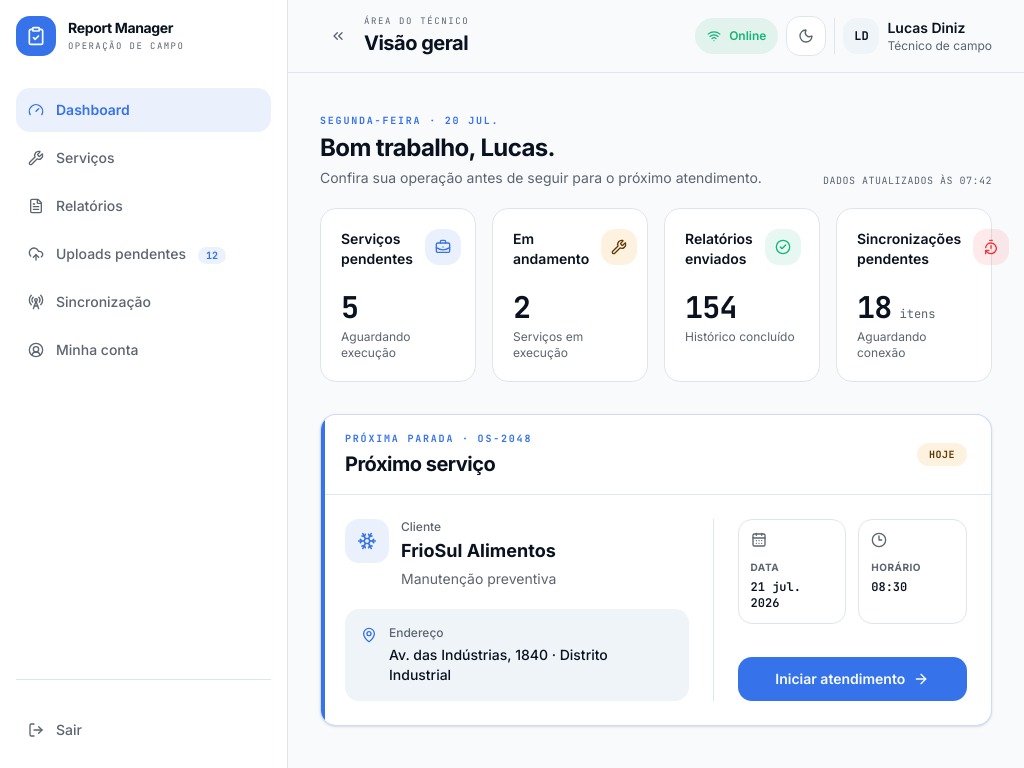
Test: technician experience › keeps the shell and exposes the correct title for every route
The width and height of the screenshot is (1024, 768).
What coordinates should you click on to do the following:
click the link "Serviços"
I would click on:
 (71, 158)
Its box is [28,149,115,166].
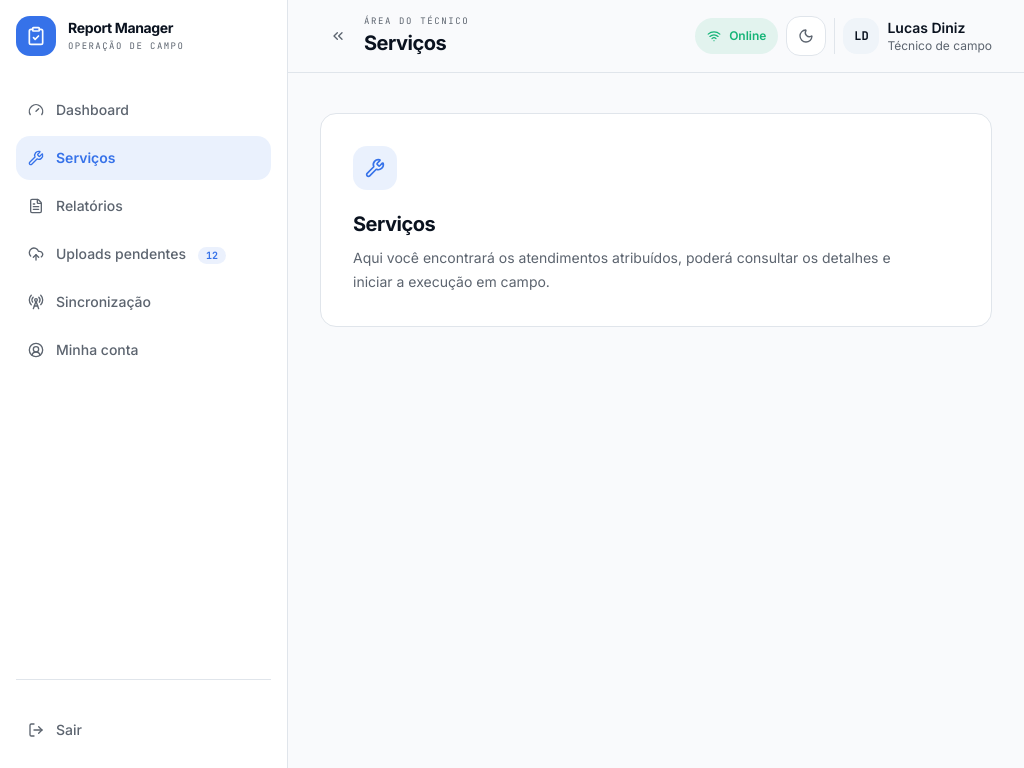
Now the heading "Serviços" below "Área do técnico" is shown, box [364,31,446,55]
What coordinates should you click on to do the following:
click the link "Relatórios"
I would click on:
 (75, 206)
Its box is [28,197,123,214].
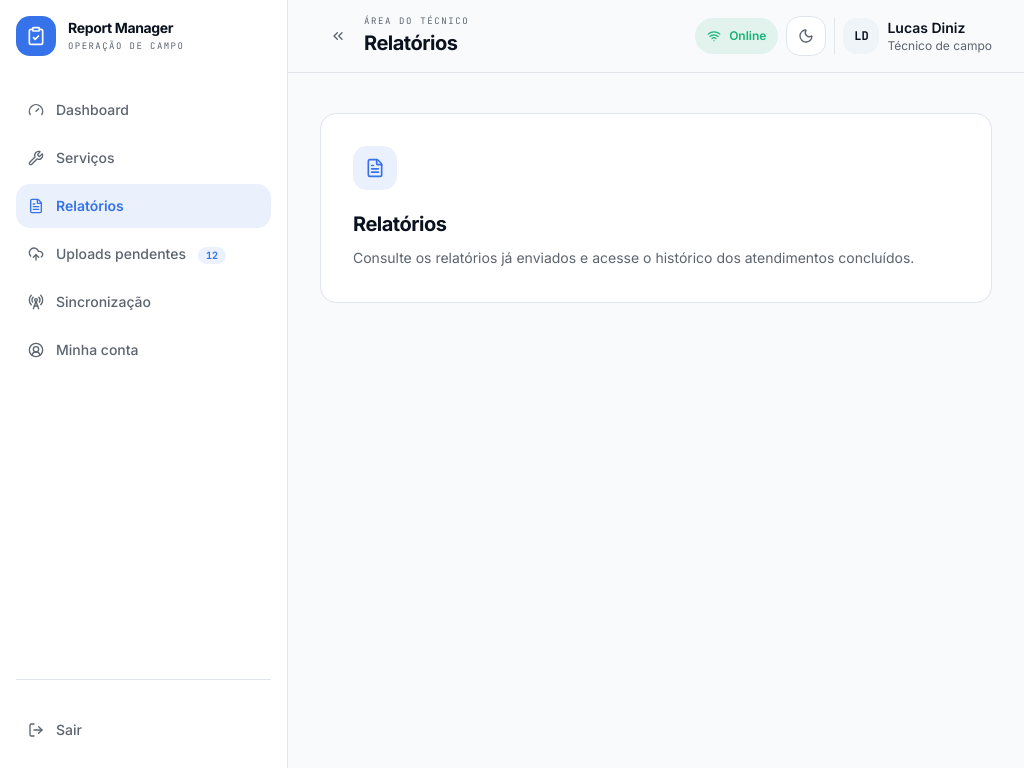
Now the heading "Relatórios" below "Área do técnico" is shown, box [364,29,469,57]
What coordinates should you click on to do the following:
click the link "Uploads pendentes 12"
I would click on:
 (127, 254)
Its box is [28,245,226,264].
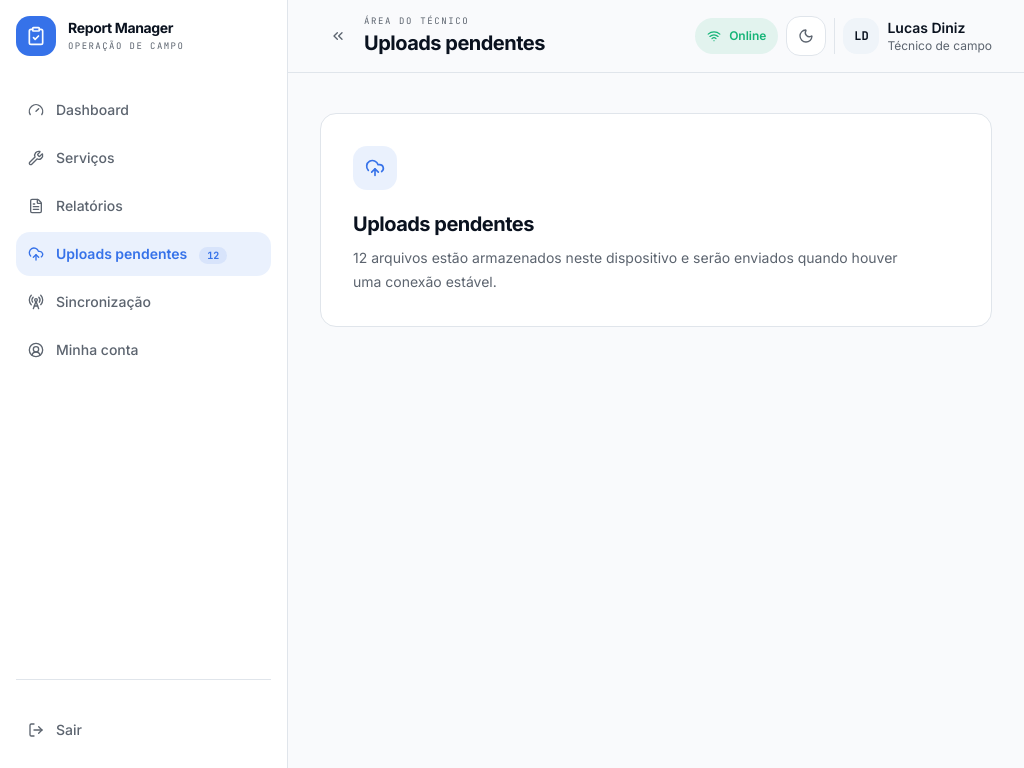
Now the heading "Uploads pendentes" below "Área do técnico" is shown, box [364,29,545,57]
What coordinates should you click on to do the following:
click the link "Sincronização"
I would click on:
 (90, 302)
Its box is [28,293,151,310].
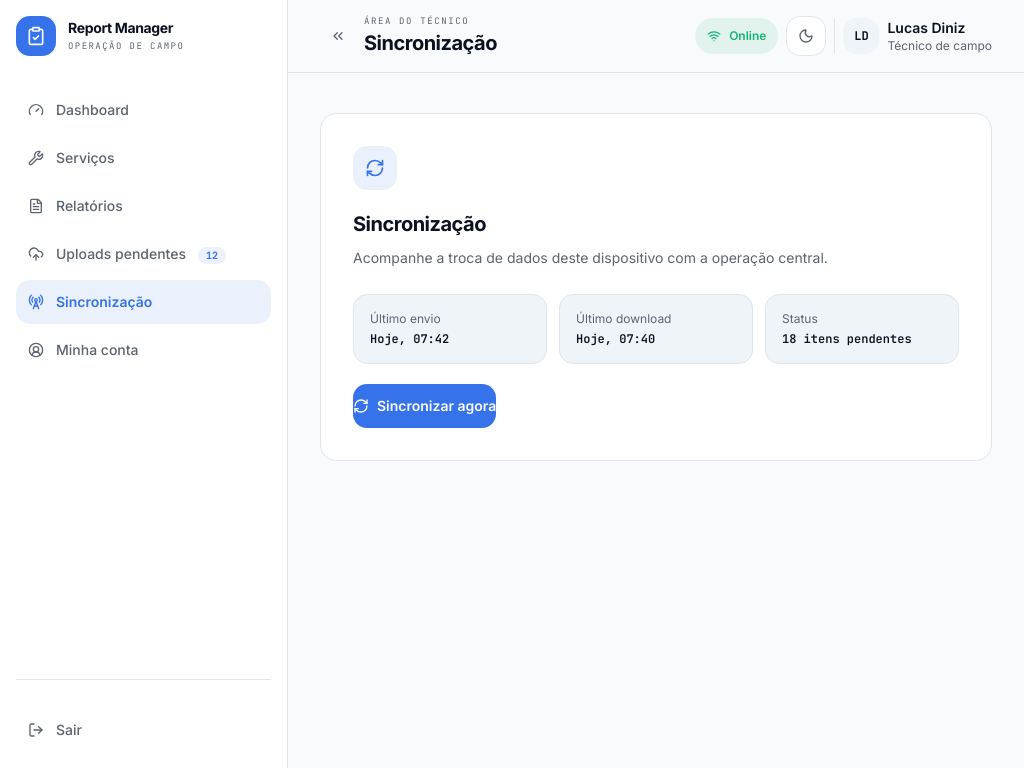
Now the heading "Sincronização" below "Área do técnico" is shown, box [364,29,497,57]
What coordinates should you click on to do the following:
click the link "Minha conta"
I would click on:
 (83, 350)
Its box is [28,341,139,358].
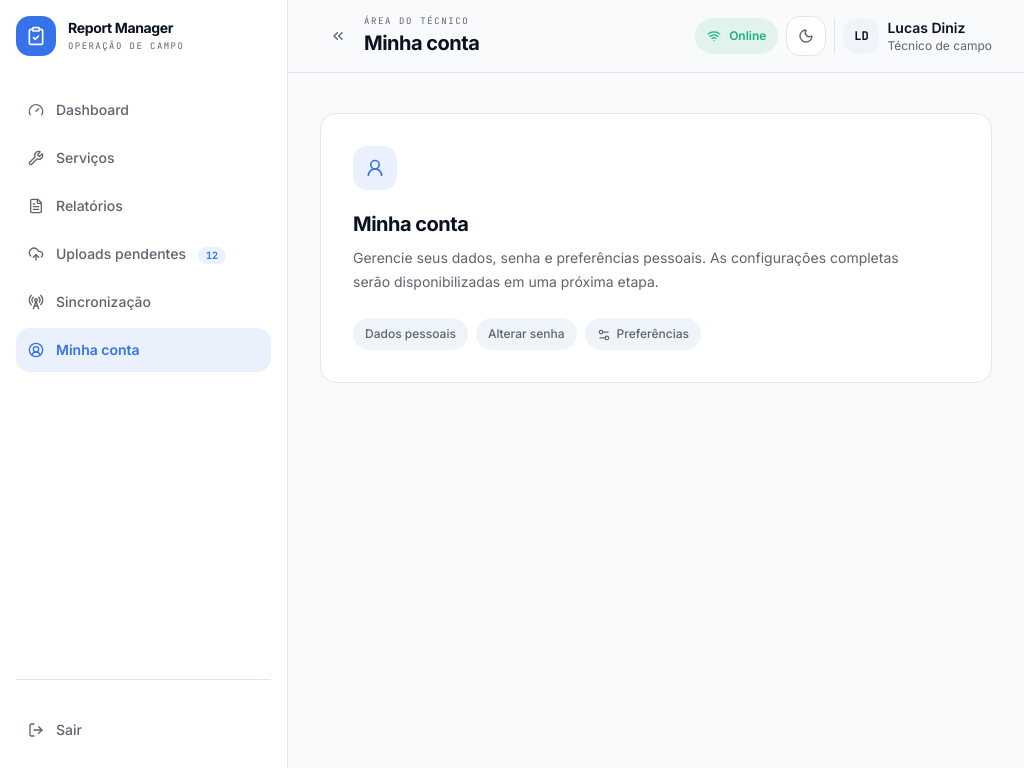
Now the heading "Minha conta" below "Área do técnico" is shown, box [364,29,479,57]
What coordinates should you click on to do the following:
click the link "Dashboard"
I would click on:
 (78, 110)
Its box is [28,101,129,118].
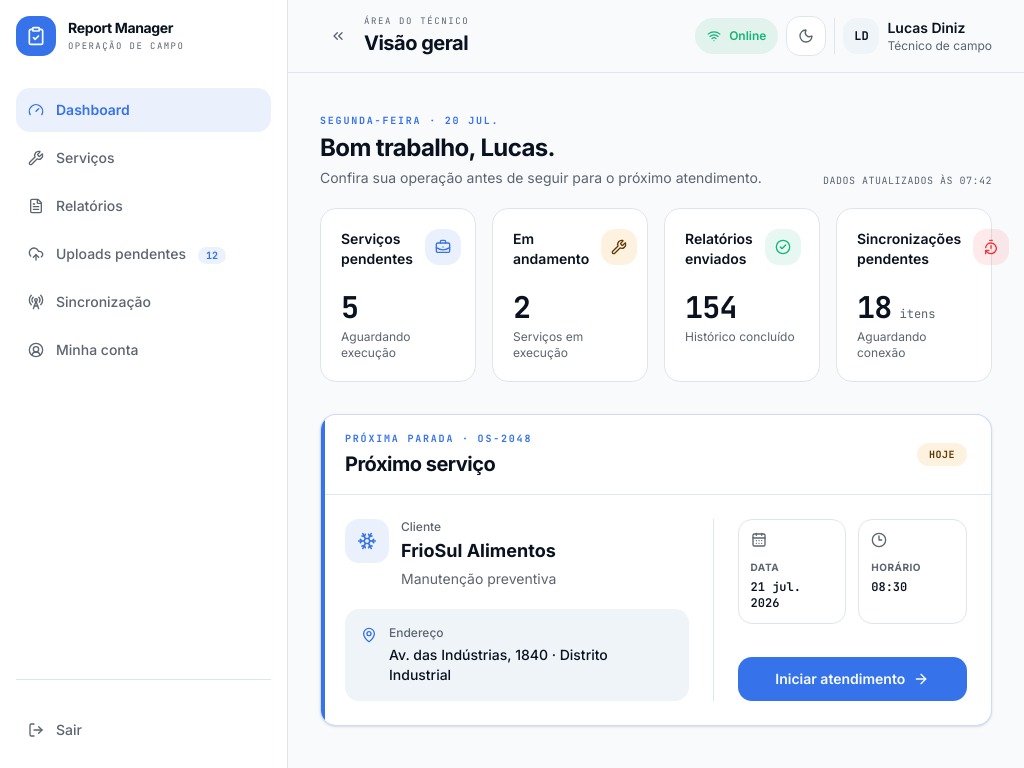
Expected: the text "Report Manager" is shown, [68,18,184,38]
Now the heading "Visão geral" is shown, box [364,29,469,57]
